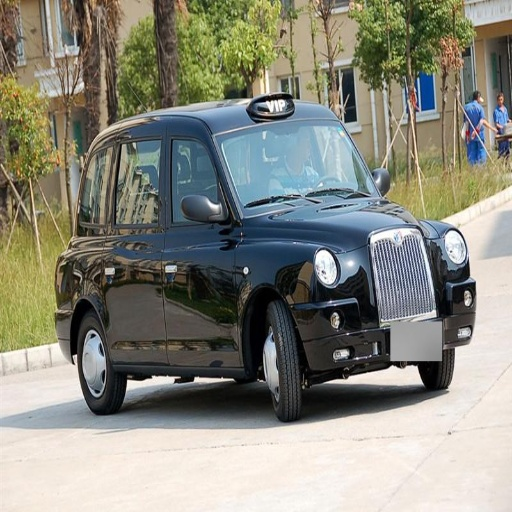front_bumper: (298, 227, 474, 374)
front_glass: (222, 120, 371, 206)
front_right_door: (167, 124, 237, 360)
hood: (268, 196, 444, 236)
trunk: (59, 243, 106, 320)
